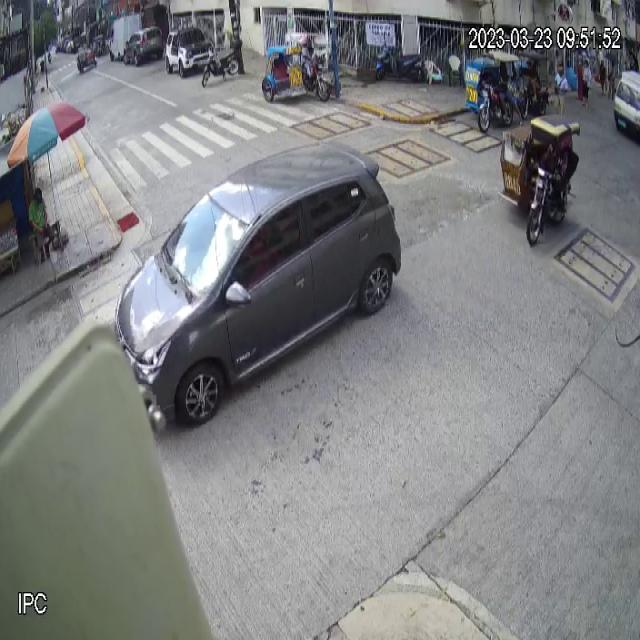Car: (114, 139, 400, 427)
Tricycle: (498, 113, 581, 246), (261, 32, 330, 103), (464, 51, 518, 133)
